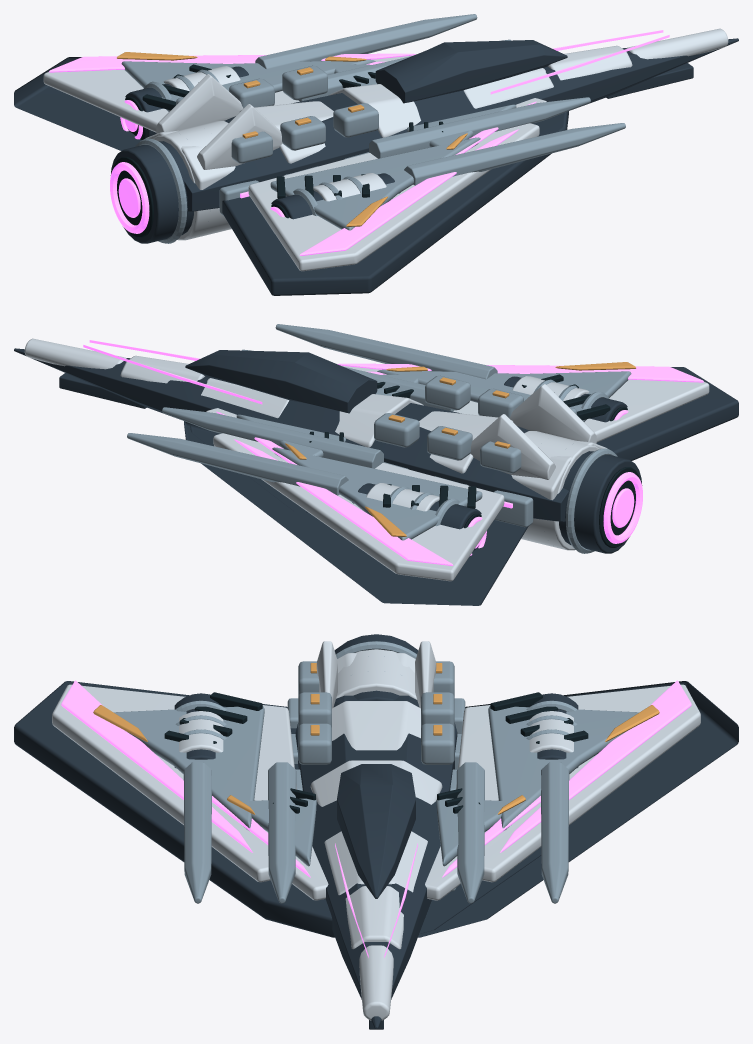
File: ship-08.glb
The picture shows the model from 3 angles, top to bottom: view 1: azimuth 30°, elevation 25°; view 2: azimuth 150°, elevation 25°; view 3: azimuth 270°, elevation 25°; orthographic projection. The views are drawn at different scales.
Parts seen in each view (by area): view 1: Graphite frame, Ceramic titanium, Machined silver, Ion violet, Carbon insets, Copper contacts; view 2: Graphite frame, Ceramic titanium, Machined silver, Ion violet, Carbon insets, Copper contacts; view 3: Graphite frame, Ceramic titanium, Machined silver, Ion violet, Carbon insets, Copper contacts.
Boxes of the visible parts, left/top/right/bottom form: Graphite frame: left=14, top=38, right=738, bottom=295; Ceramic titanium: left=43, top=28, right=728, bottom=271; Machined silver: left=121, top=14, right=625, bottom=243; Ion violet: left=49, top=30, right=669, bottom=255; Carbon insets: left=112, top=64, right=443, bottom=237; Copper contacts: left=117, top=52, right=467, bottom=226; Graphite frame: left=14, top=348, right=738, bottom=605; Ceramic titanium: left=24, top=338, right=709, bottom=581; Machined silver: left=127, top=324, right=631, bottom=553; Ion violet: left=83, top=340, right=703, bottom=565; Carbon insets: left=309, top=374, right=640, bottom=550; Copper contacts: left=285, top=362, right=635, bottom=536; Graphite frame: left=14, top=634, right=738, bottom=1029; Ceramic titanium: left=52, top=641, right=700, bottom=1020; Machined silver: left=113, top=641, right=639, bottom=903; Ion violet: left=61, top=680, right=691, bottom=957; Carbon insets: left=164, top=692, right=588, bottom=813; Copper contacts: left=93, top=663, right=659, bottom=814.
Size of the model in its own units: 5.51 by 1.14 by 4.71.
